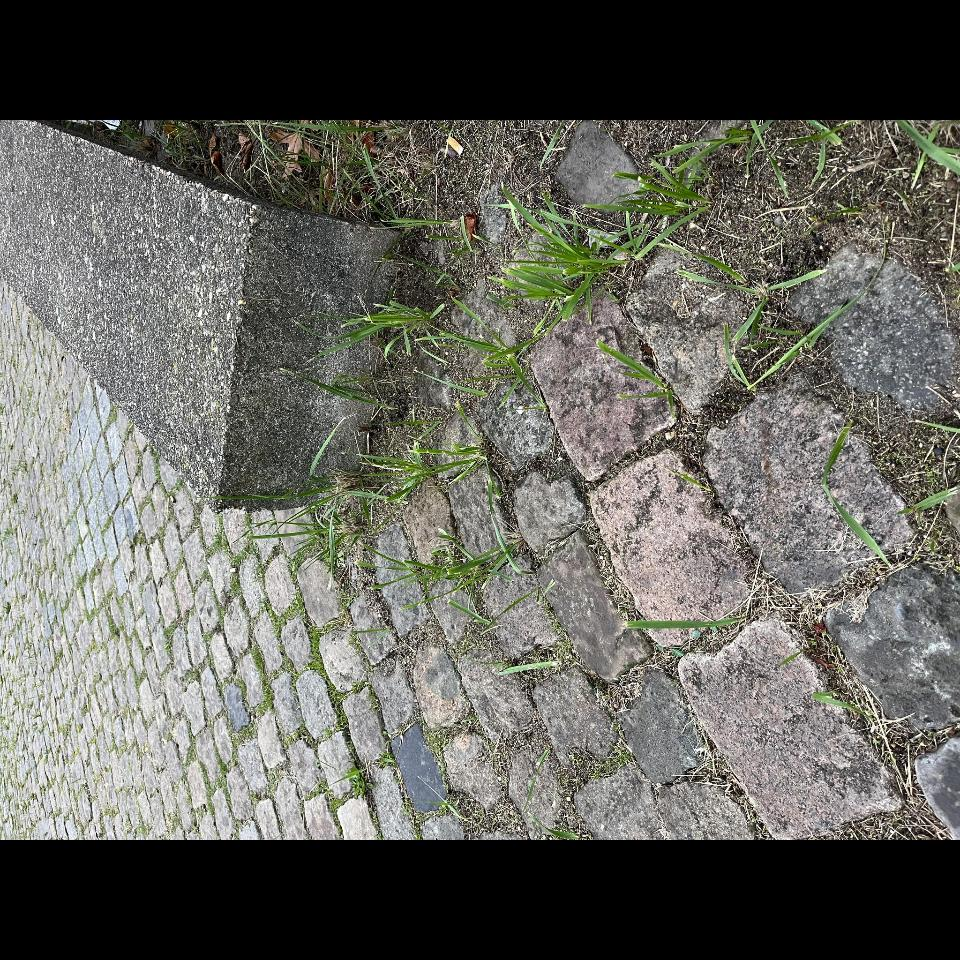weed: (267, 422, 487, 574), (498, 191, 702, 320), (417, 299, 546, 410), (748, 290, 866, 388), (822, 423, 890, 566), (375, 531, 515, 589), (358, 441, 486, 501), (320, 300, 444, 356), (597, 341, 672, 411), (612, 162, 709, 215), (411, 240, 455, 286), (677, 270, 761, 293), (430, 213, 477, 251), (724, 326, 752, 388), (732, 297, 768, 344), (901, 485, 960, 513), (627, 617, 743, 630), (813, 691, 866, 716), (499, 661, 558, 675), (734, 273, 745, 281), (430, 266, 434, 270)
